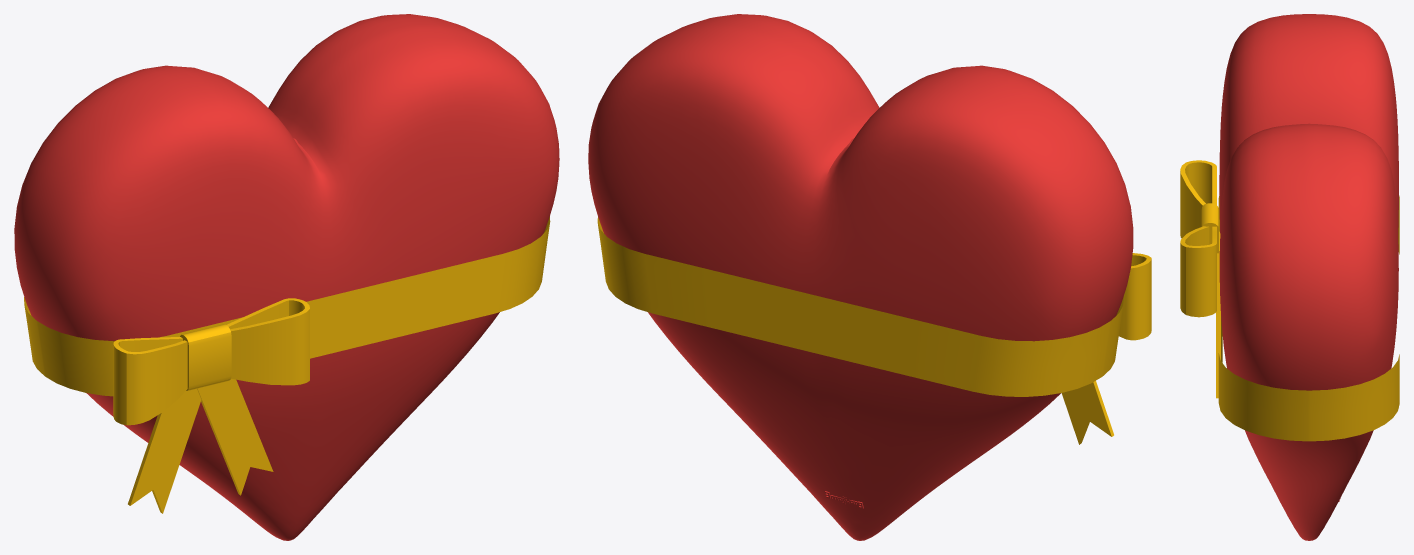
The model's file is heart_with_ribbon.fbx.
The picture shows the model from 3 angles, left to right: view 1: azimuth 30°, elevation 25°; view 2: azimuth 150°, elevation 25°; view 3: azimuth 270°, elevation 25°; orthographic projection. The views are drawn at different scales.
Visible parts, largest first — view 1: hfdjkslfjkds.003; view 2: hfdjkslfjkds.003; view 3: hfdjkslfjkds.003.
Part boxes in pixels (box(x1,y1,x2,y2)): hfdjkslfjkds.003: box(14, 14, 559, 540); hfdjkslfjkds.003: box(588, 14, 1151, 540); hfdjkslfjkds.003: box(1180, 14, 1399, 540).
Size of the model in its own units: 186 by 168 by 72.78.
Materials: 1 (1 with a texture image).
